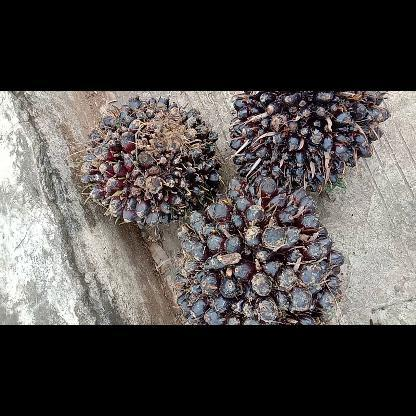TBS mentah: (174, 174, 346, 324), (80, 94, 224, 232), (224, 90, 394, 196)
